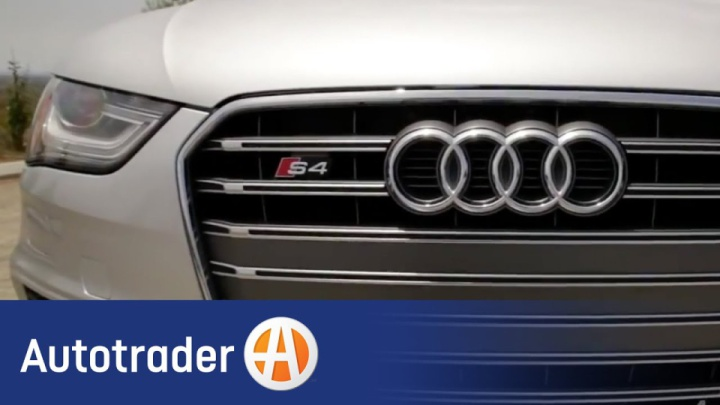audi: (372, 109, 640, 225)
